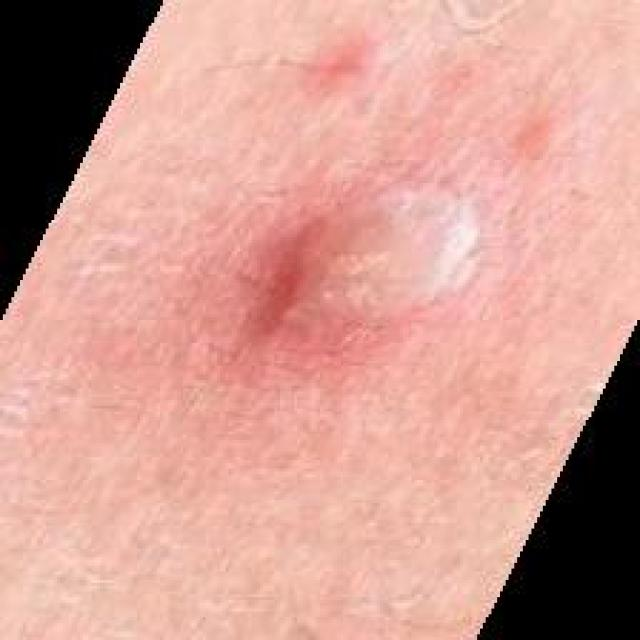others: (134, 26, 543, 557)
